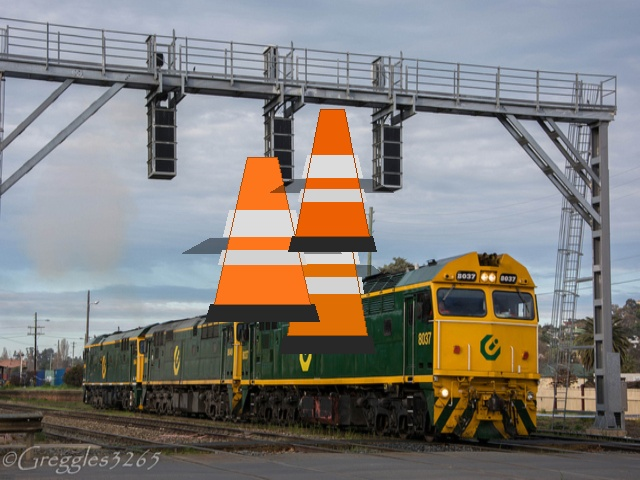traffic-cone: (205, 157, 319, 321), (279, 181, 375, 353), (288, 109, 376, 251)
